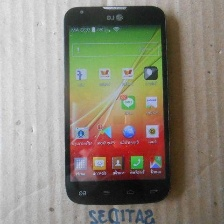phone: (60, 1, 171, 210)
